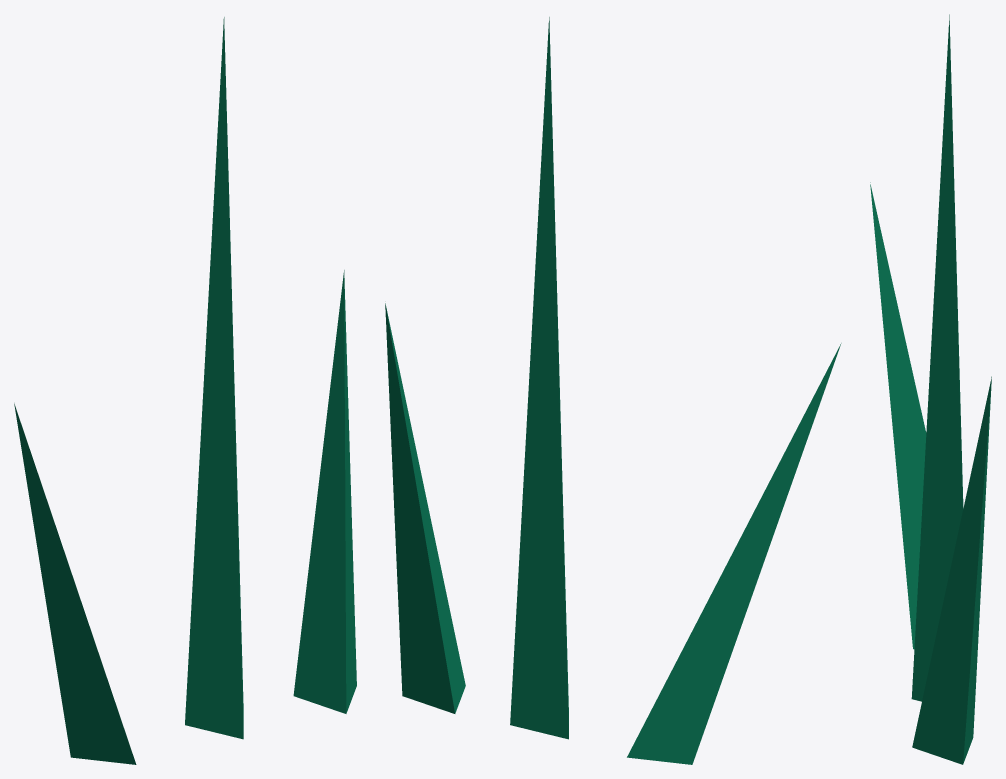
Rendered from world_1_grass_2.dae.
The picture shows the model from 3 angles, left to right: view 1: azimuth 30°, elevation 25°; view 2: azimuth 150°, elevation 25°; view 3: azimuth 270°, elevation 25°; orthographic projection. The views are drawn at different scales.
Parts seen in each view (by area): view 1: grass_2; view 2: grass_2; view 3: grass_2.
Boxes of the visible parts, x1,y1,x2,y2 form: grass_2: [14, 17, 356, 764]; grass_2: [385, 17, 841, 764]; grass_2: [870, 14, 991, 764].
Bounding box in the file's own units: 0.2895 × 0.0806 × 0.5.
